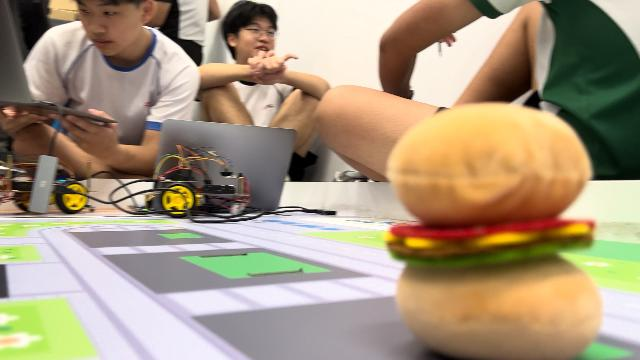burger: (381, 99, 605, 356)
